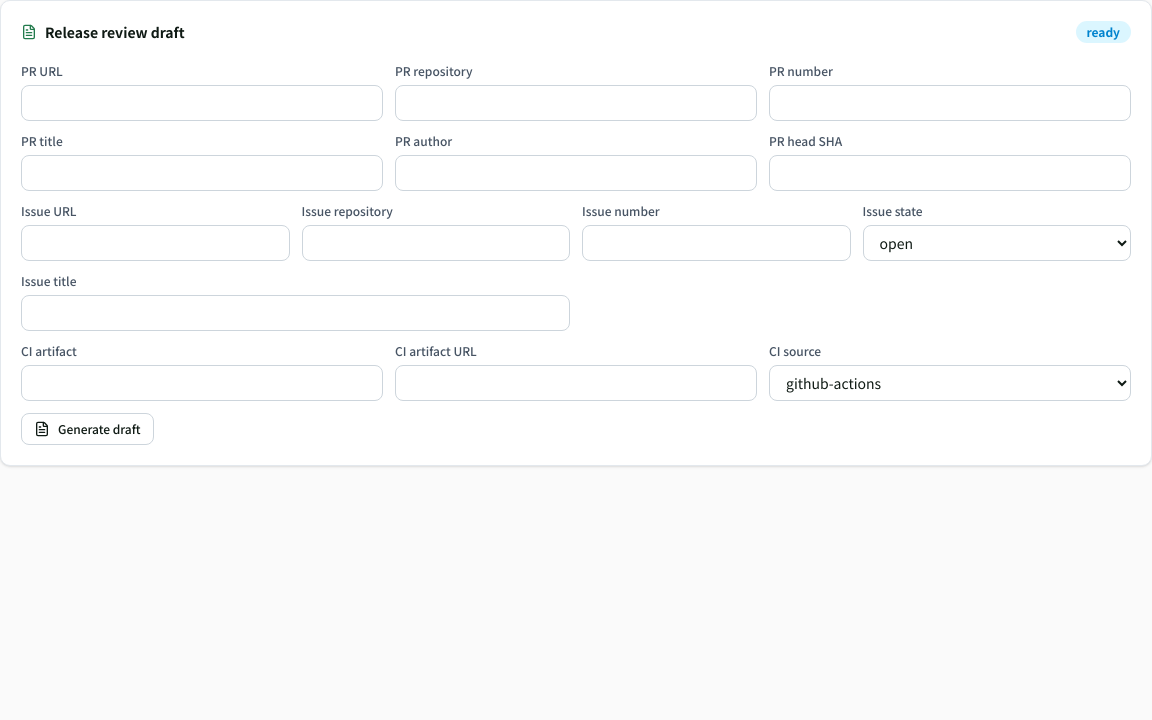
ReleaseReviewDraftPanel › shows pending state when draft API returns null
The width and height of the screenshot is (1152, 720).
Click the button "Generate draft".
click(87, 429)  # box [21,413,154,445]
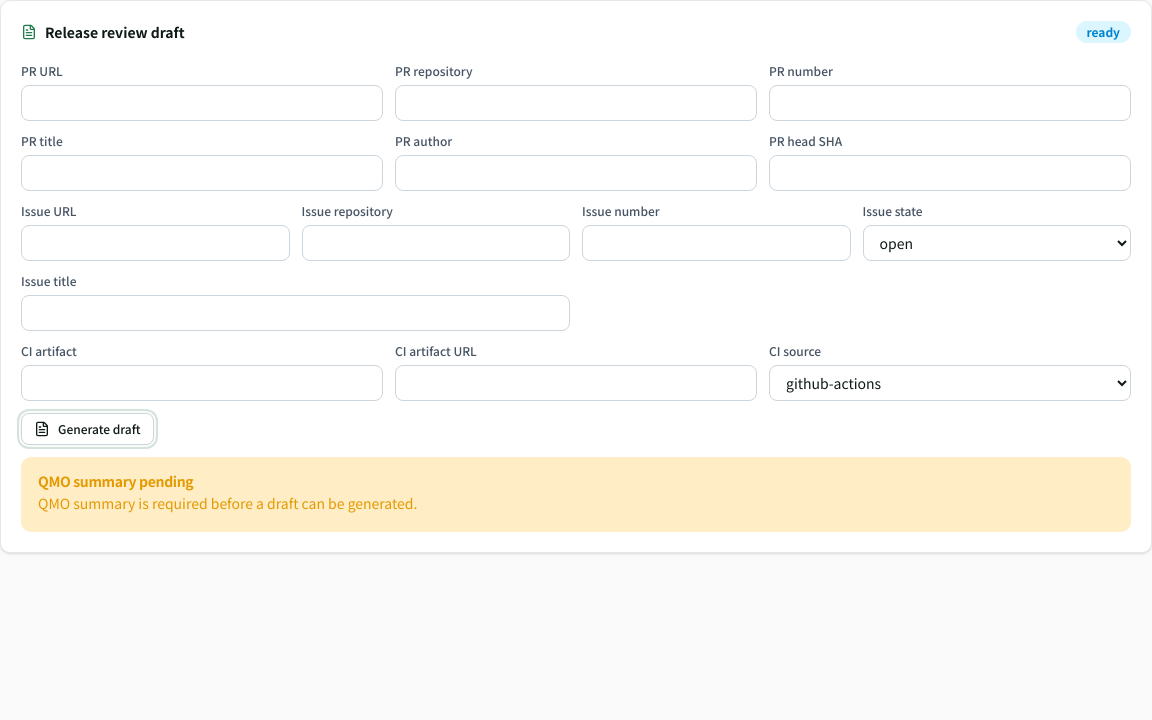
Expected: the heading "QMO summary pending" is shown, [38,471,193,491]
